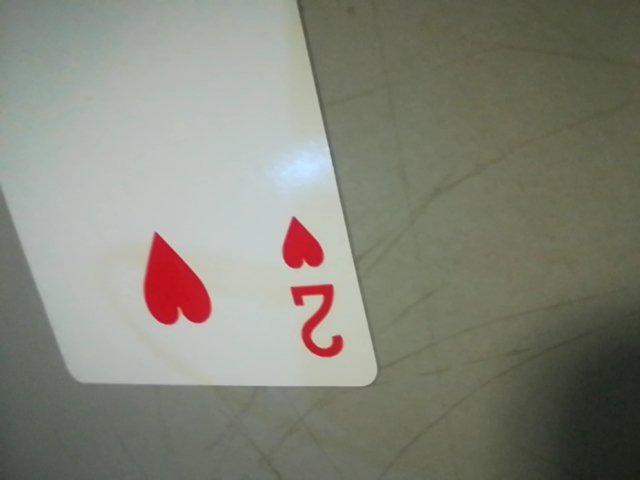hx 2: (270, 201, 358, 378)
